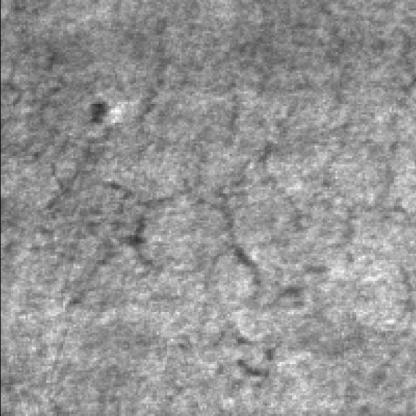crazing: (198, 89, 370, 391), (21, 48, 175, 314)
